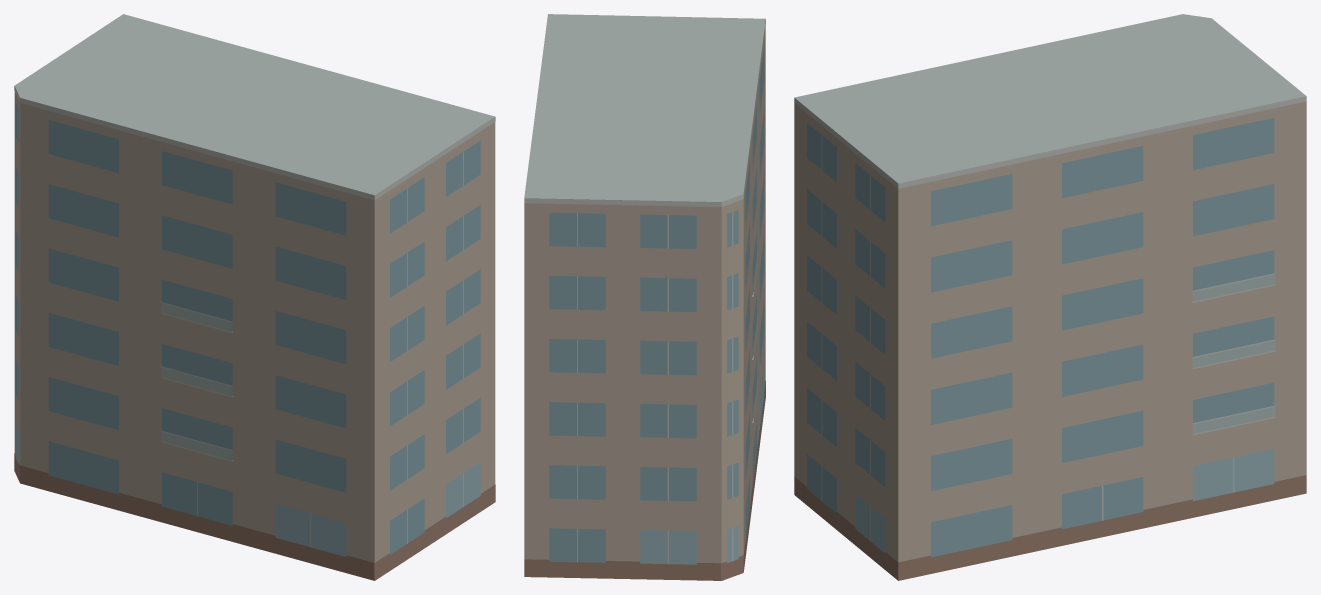
The model's file is survey-upis-32838234.glb.
The picture shows the model from 3 angles, left to right: view 1: azimuth 30°, elevation 25°; view 2: azimuth 150°, elevation 25°; view 3: azimuth 270°, elevation 25°; orthographic projection. The views are drawn at different scales.
Parts seen in each view (by area): view 1: survey-upis-32838234.tmp; view 2: survey-upis-32838234.tmp; view 3: survey-upis-32838234.tmp.
Boxes of the visible parts, x1,y1,x2,y2 form: survey-upis-32838234.tmp: (14,14,495,580); survey-upis-32838234.tmp: (524,14,765,580); survey-upis-32838234.tmp: (794,14,1306,580).
Size of the model in its own units: 16.76 by 18.3 by 21.4.
